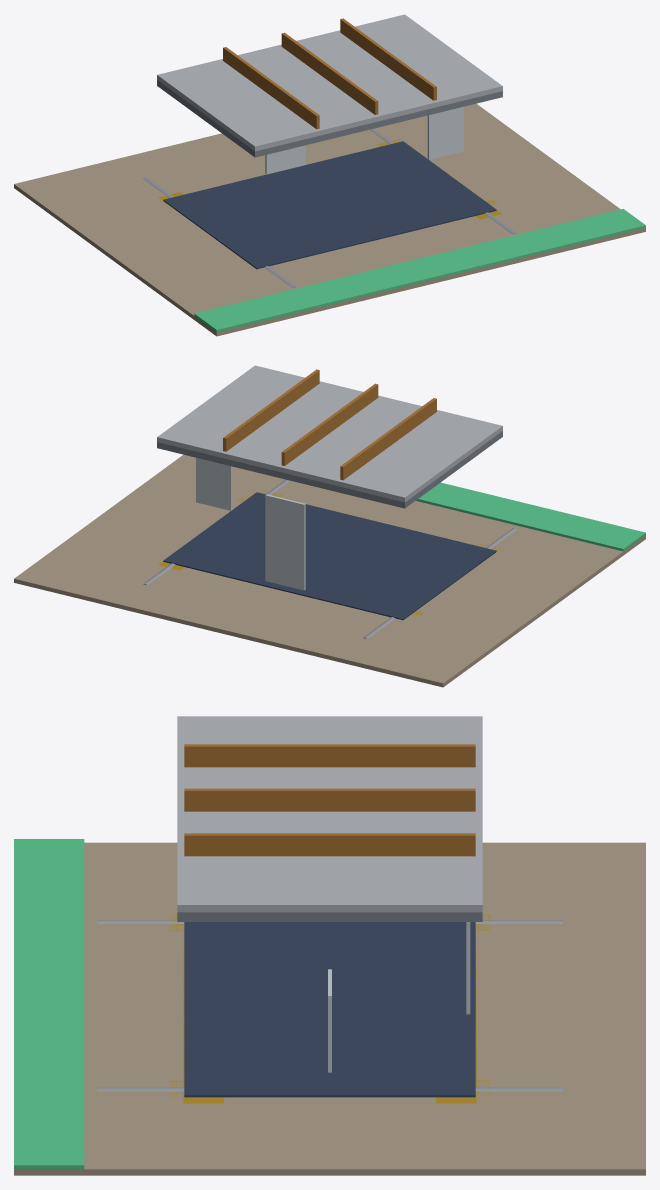
The model's file is stage_11_finishing.glb.
3 views of the same model, one above another, from view 1: azimuth 30°, elevation 25°; view 2: azimuth 150°, elevation 25°; view 3: azimuth 270°, elevation 25° (orthographic). The views are drawn at different scales.
Parts seen in each view (by area): view 1: world; view 2: world; view 3: world.
Boxes of the visible parts, x1,y1,x2,y2 form: world: [14, 14, 645, 336]; world: [14, 365, 645, 687]; world: [14, 716, 645, 1175].
Size of the model in its own units: 11 by 4.2 by 9.
